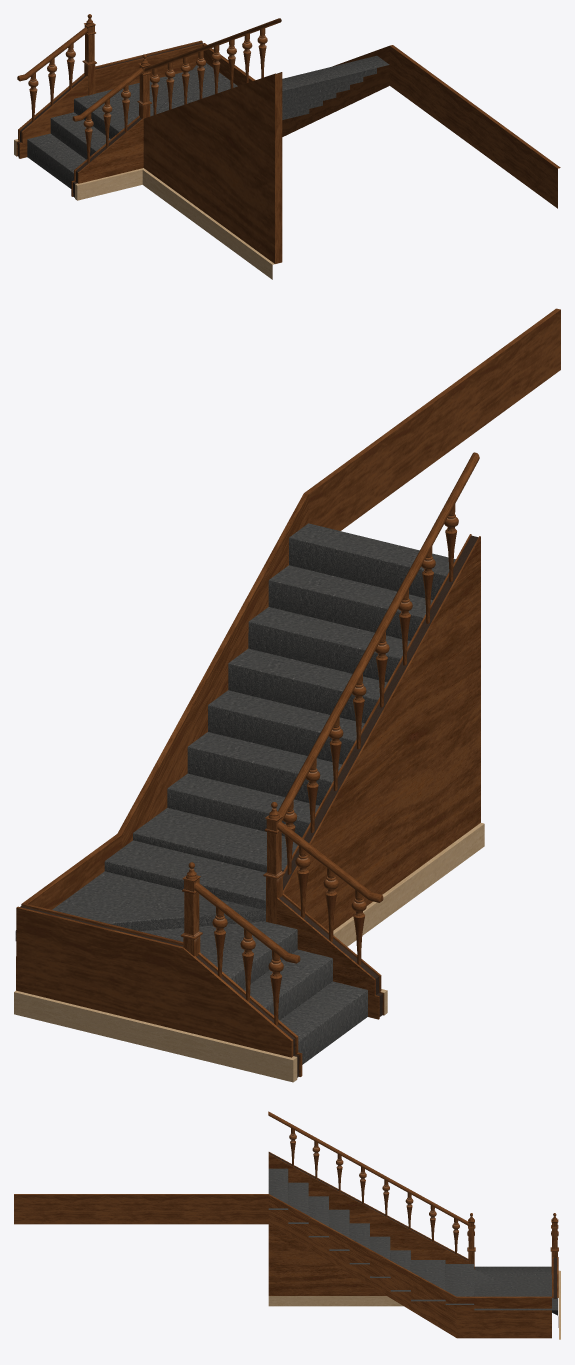
The model's file is stairway.fbx.
3 renders of one model, top to bottom at view 1: azimuth 30°, elevation 25°; view 2: azimuth 150°, elevation 25°; view 3: azimuth 270°, elevation 25°, orthographic. The views are drawn at different scales.
Visible parts, largest first — view 1: finalstair; view 2: finalstair; view 3: finalstair.
Boxes of the visible parts, x1=… form: finalstair: x1=14, y1=14, x2=560, y2=279; finalstair: x1=14, y1=308, x2=560, y2=1082; finalstair: x1=14, y1=1111, x2=560, y2=1339.
Bounding box in the file's own units: 394 × 1317 × 524.
